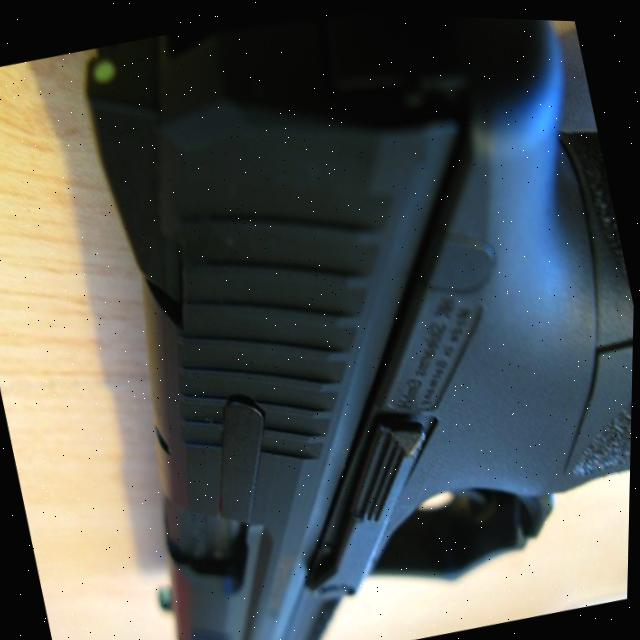pistol: (33, 1, 640, 640)
